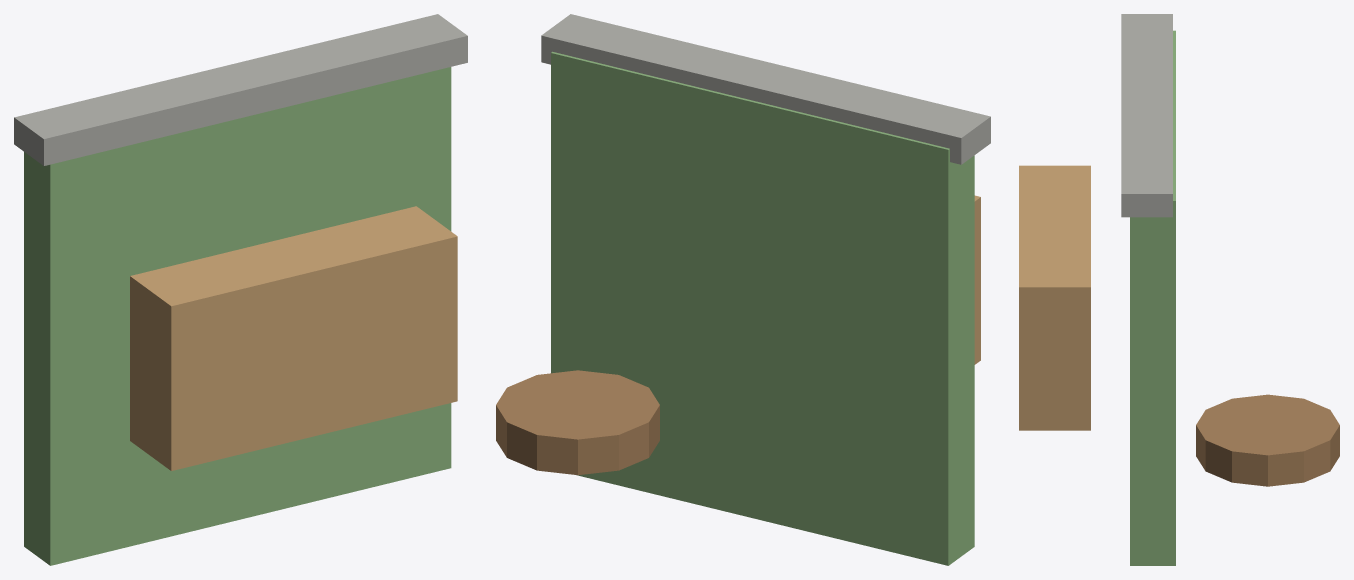
Rendered from 19_XeBo.glb.
3 renders of one model, left to right at view 1: azimuth 30°, elevation 25°; view 2: azimuth 150°, elevation 25°; view 3: azimuth 270°, elevation 25°, orthographic. The views are drawn at different scales.
Parts seen in each view (by area): view 1: base, cart, edge; view 2: base, edge, wheel, cart; view 3: cart, base, wheel, edge.
Part boxes in pixels (bbox=[...]): base: bbox=[24, 67, 451, 565]; cart: bbox=[130, 206, 457, 470]; edge: bbox=[14, 14, 467, 165]; base: bbox=[551, 51, 974, 565]; edge: bbox=[541, 14, 990, 164]; wheel: bbox=[496, 370, 659, 475]; cart: bbox=[974, 195, 980, 364]; cart: bbox=[1019, 165, 1090, 430]; base: bbox=[1130, 30, 1175, 565]; wheel: bbox=[1196, 394, 1339, 486]; edge: bbox=[1121, 14, 1172, 217].
Bounding box in the file's own units: 1.48 × 1.44 × 1.12.
